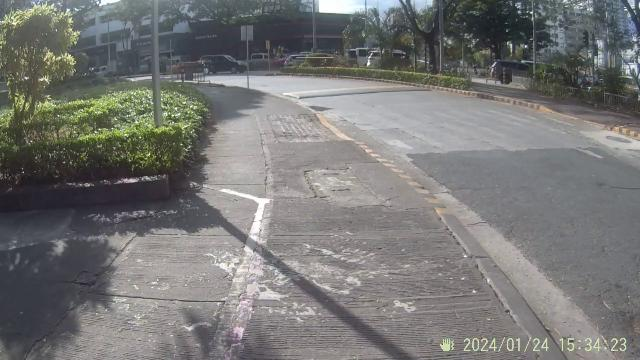cracked_pavement: (267, 232, 405, 308), (37, 227, 129, 307), (274, 151, 374, 215), (266, 112, 320, 146)
street_sign: (240, 21, 258, 95)
